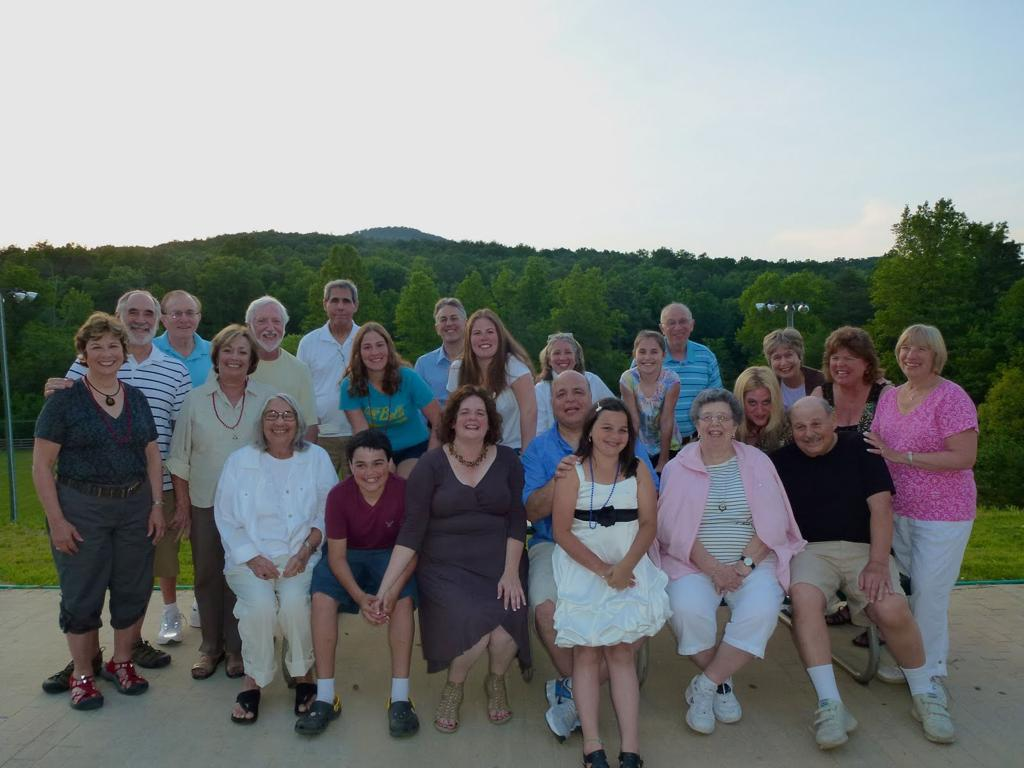face: (553, 378, 590, 424), (791, 410, 830, 452), (592, 412, 627, 456), (262, 401, 297, 443), (352, 449, 387, 490), (123, 299, 156, 340), (87, 335, 123, 372), (898, 336, 932, 375), (830, 346, 863, 384), (166, 299, 199, 336), (251, 310, 284, 347), (702, 405, 733, 444), (219, 337, 249, 377), (456, 400, 486, 437), (470, 319, 498, 356), (327, 289, 354, 323), (361, 335, 388, 369), (745, 389, 772, 423), (663, 310, 690, 343), (437, 309, 464, 341), (772, 347, 800, 377), (635, 342, 661, 371), (550, 343, 575, 371)
